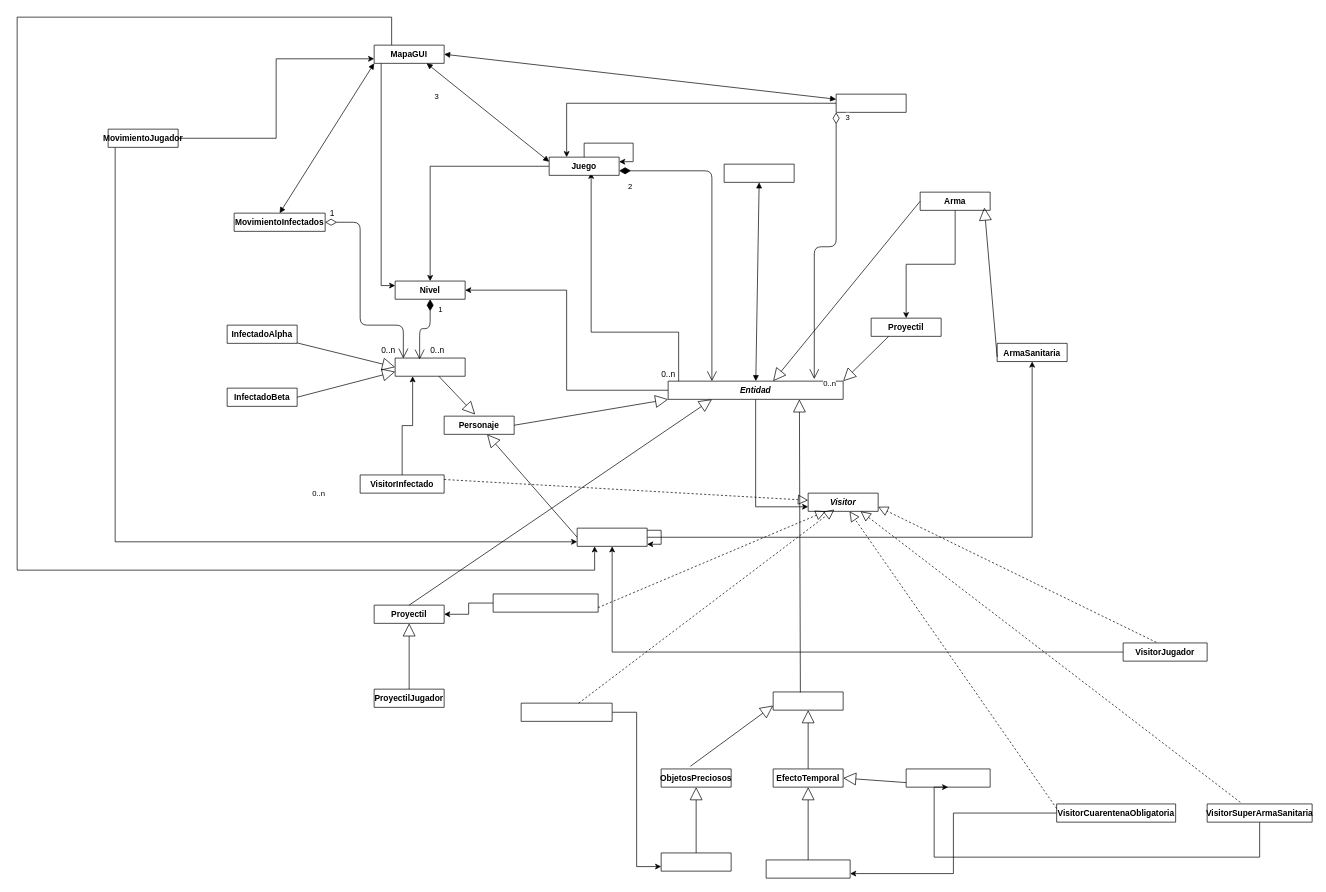
Some shapes in this 1326 by 892 pixel diagram are drawn without their labels. Each missing label, with the centre of its shape:
CuaretenaObligatoria: (x=807, y=868)
EntidadGrafica: (x=758, y=172)
HiloEntidades: (x=870, y=102)
Infectado: (x=429, y=366)
Jugador: (x=611, y=536)
PocionDeVida: (x=695, y=861)
Premio: (x=807, y=700)
SuperArnaSanitaria: (x=947, y=777)
VisitorPocionDeVida: (x=566, y=711)
VisitorProyectilJugador: (x=545, y=602)
